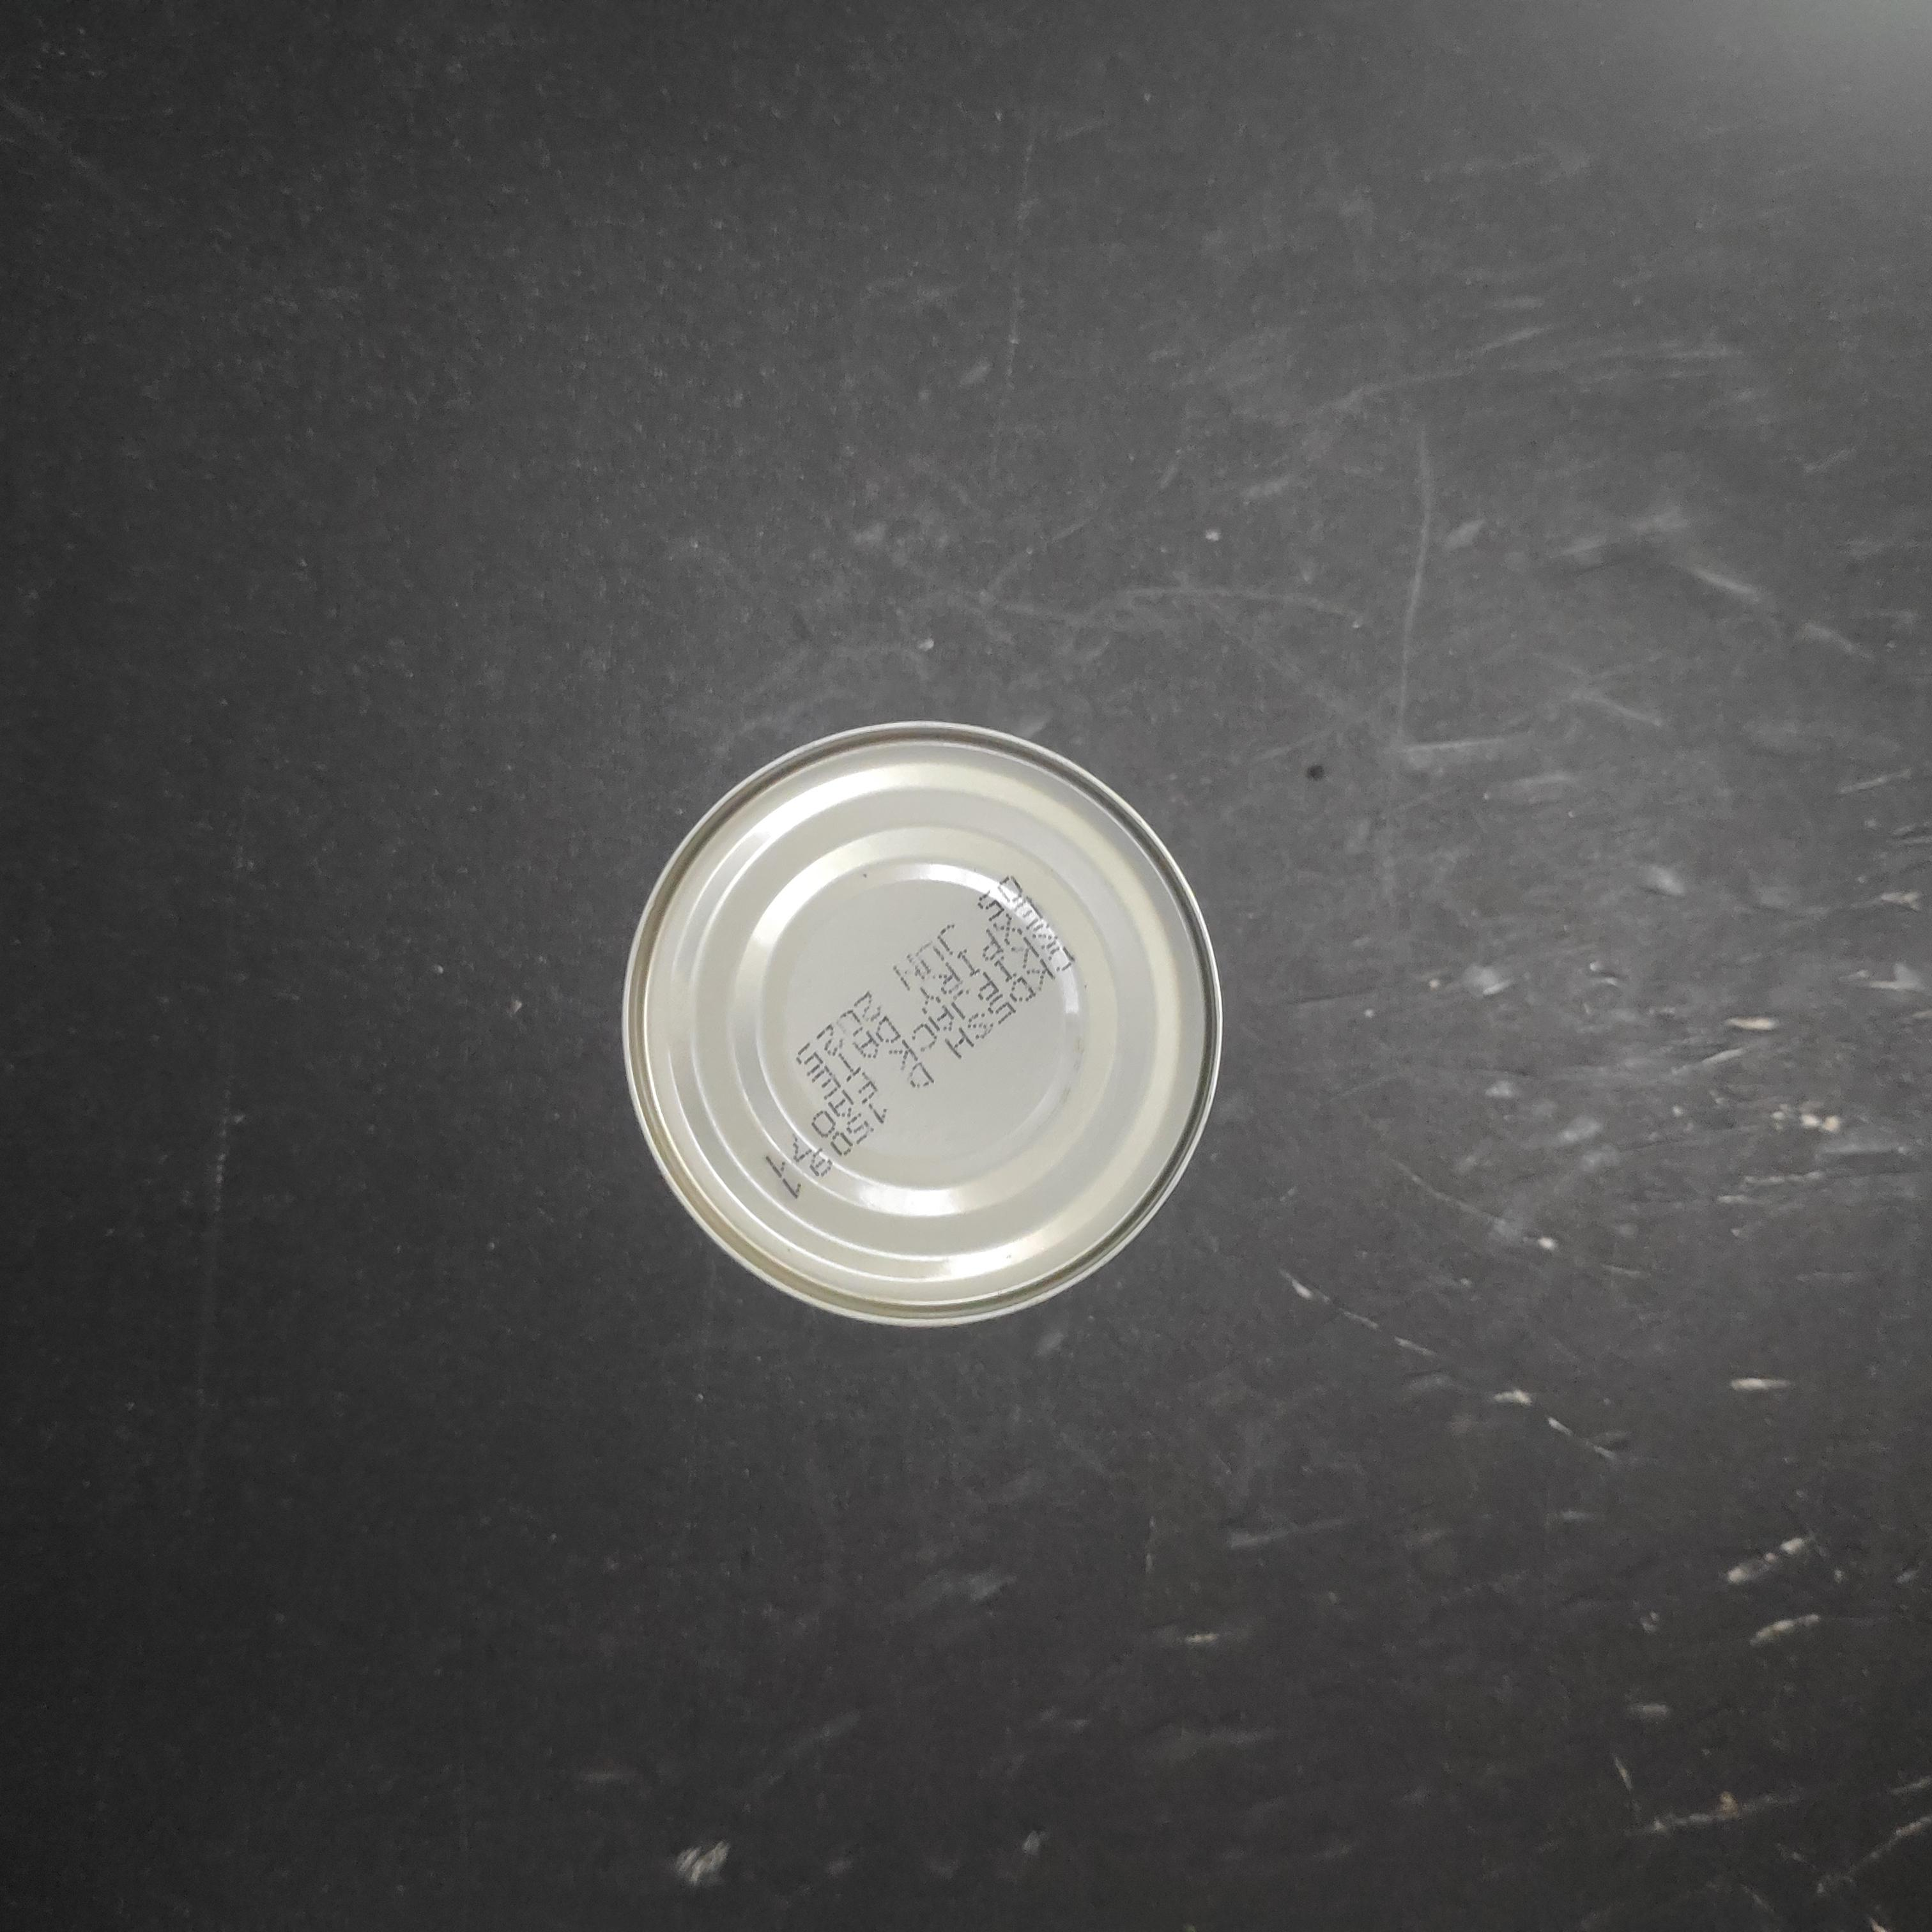No defect: (706, 602, 1313, 1214)
